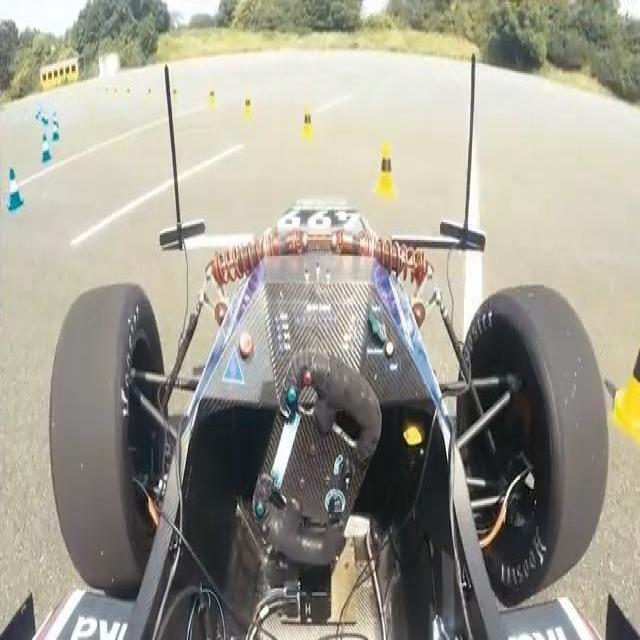blue_cone: (7, 167, 24, 212), (41, 133, 51, 162)
yellow_cone: (611, 331, 640, 440), (374, 138, 399, 196), (299, 105, 316, 141)
